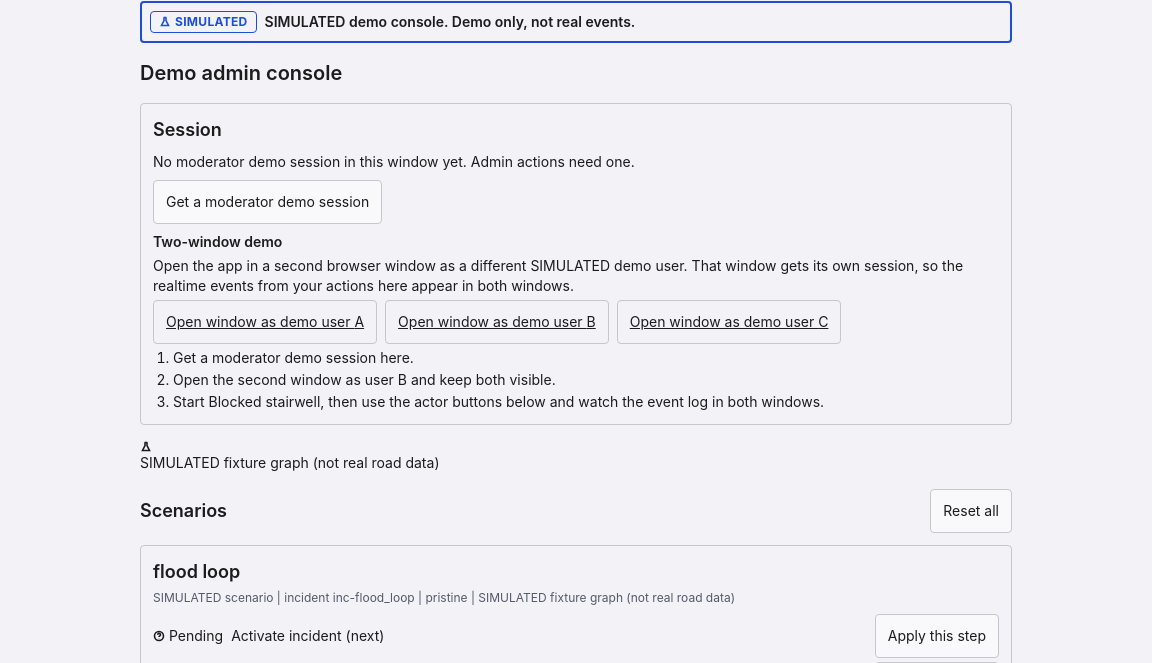
DemoAdmin scenarios › runs calculate_routes client actions and shows a summary
Click the button with aria-label "Apply this step: Activate incident" at coordinates (937, 636), box [875, 614, 999, 658]
(page scrolled)
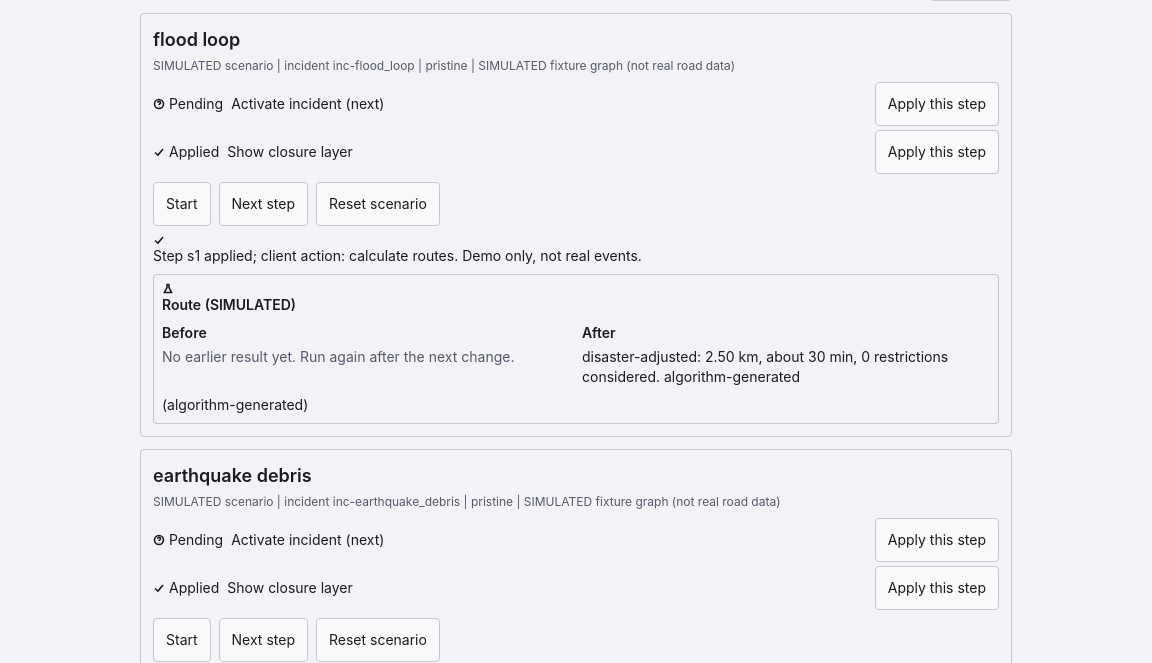
Now the element with test id "route-comparison" shows "2.50 km", box [582, 348, 948, 385]
